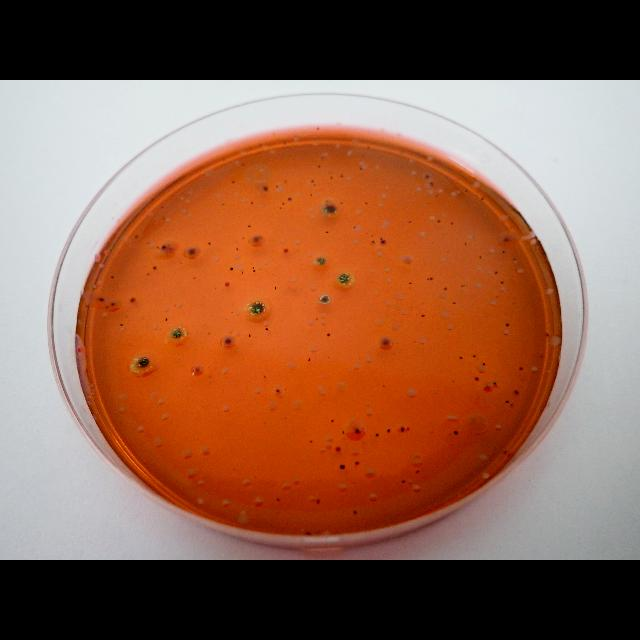colony: (245, 298, 265, 320), (134, 353, 154, 371), (221, 334, 235, 351), (170, 326, 184, 342), (378, 334, 392, 350), (322, 203, 338, 214), (318, 292, 330, 306), (338, 272, 348, 288), (186, 245, 198, 257), (128, 293, 138, 307), (252, 233, 262, 244), (303, 528, 313, 538), (352, 426, 362, 436), (193, 364, 203, 374), (274, 494, 282, 506), (223, 279, 231, 291), (333, 444, 342, 454), (95, 296, 106, 304), (329, 416, 336, 428), (338, 463, 346, 473), (398, 425, 406, 435), (160, 242, 168, 252), (428, 178, 436, 188), (448, 218, 456, 228), (476, 252, 484, 262), (286, 193, 292, 205), (352, 459, 362, 466), (233, 243, 239, 254), (308, 438, 316, 446), (274, 387, 282, 395), (262, 325, 270, 333), (406, 218, 414, 226), (502, 236, 510, 244), (374, 429, 381, 438), (452, 428, 458, 438), (306, 354, 312, 364), (325, 330, 331, 340), (240, 268, 246, 278), (274, 182, 280, 192), (493, 268, 499, 278), (380, 240, 388, 247), (262, 184, 268, 193), (314, 498, 322, 504), (352, 508, 358, 516), (414, 468, 420, 476), (228, 265, 236, 271), (207, 239, 213, 247), (246, 222, 252, 230), (230, 179, 238, 185), (152, 263, 158, 271), (118, 320, 124, 328), (110, 299, 116, 307), (324, 228, 330, 236), (423, 174, 431, 180), (436, 218, 442, 226), (420, 312, 426, 320), (474, 374, 480, 382), (502, 448, 508, 456), (316, 162, 322, 170), (104, 303, 110, 311), (358, 165, 364, 172), (282, 248, 288, 255), (250, 199, 254, 209), (246, 332, 252, 338), (352, 224, 358, 230), (407, 281, 413, 287), (442, 286, 448, 292), (500, 249, 506, 255), (504, 322, 510, 328), (544, 332, 550, 338), (518, 365, 524, 371), (492, 381, 498, 387), (310, 178, 316, 184), (511, 256, 517, 262), (328, 176, 334, 182), (308, 192, 314, 198), (366, 145, 372, 151), (386, 426, 390, 434), (401, 478, 405, 486), (274, 284, 278, 292), (164, 315, 168, 323), (371, 238, 375, 246), (464, 240, 468, 248), (472, 352, 476, 360), (514, 388, 518, 396), (134, 234, 138, 242), (156, 244, 160, 252), (341, 429, 345, 436), (451, 302, 457, 306), (458, 356, 464, 360), (504, 400, 510, 404), (110, 274, 114, 280), (220, 202, 226, 206), (339, 173, 343, 179), (364, 201, 368, 207), (464, 188, 468, 194), (480, 196, 484, 202), (250, 265, 256, 269), (379, 236, 383, 242), (282, 201, 286, 207), (426, 276, 429, 282), (500, 280, 504, 284), (482, 362, 486, 366), (339, 200, 343, 204), (279, 206, 283, 210), (430, 276, 432, 282), (252, 270, 256, 272), (242, 236, 244, 240)
